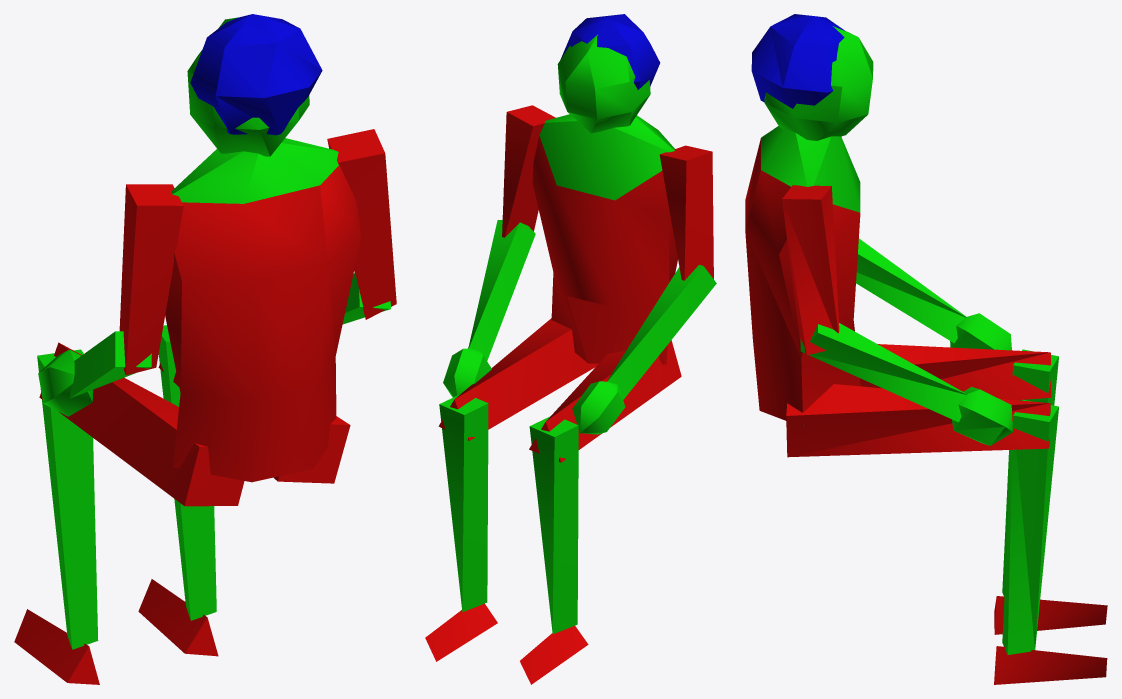
The model's file is sit_idle_lod1.glb.
3 renders of one model, left to right at view 1: azimuth 30°, elevation 25°; view 2: azimuth 150°, elevation 25°; view 3: azimuth 270°, elevation 25°, orthographic. The views are drawn at different scales.
Parts seen in each view (by area): view 1: OUT_1; view 2: OUT_1; view 3: OUT_1.
Part boxes in pixels (x1,y1,x2,y2): OUT_1: (14,14,396,684); OUT_1: (425,14,716,684); OUT_1: (745,14,1107,684).
Size of the model in its own units: 0.5225 by 1.3 by 0.6703.
